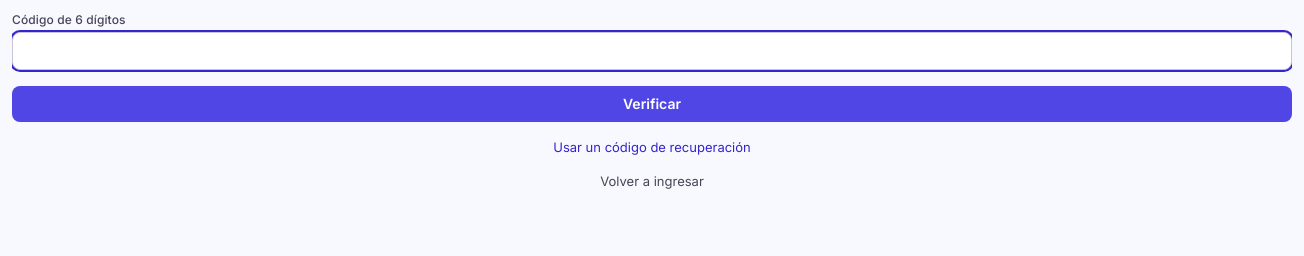
it: MfaForm › announces a {"kind":"throttled"} failure
Type "123456" into the field labelled "Código de 6 dígitos" at (652, 51), box [12,32,1292,70]
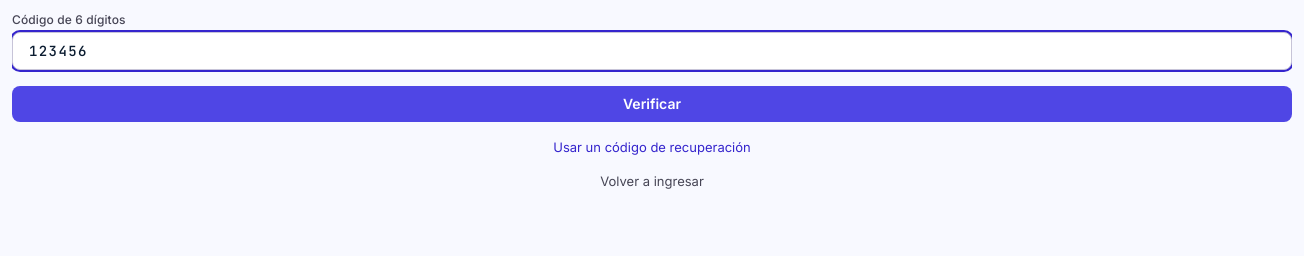
Click the button "Verificar" at (652, 104), box [12,86,1292,122]
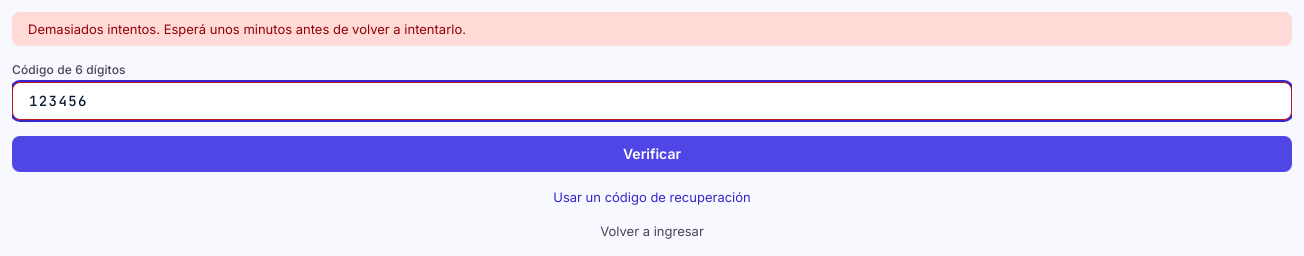
Result: the message shows "Demasiados intentos" at [28,21,466,37]
